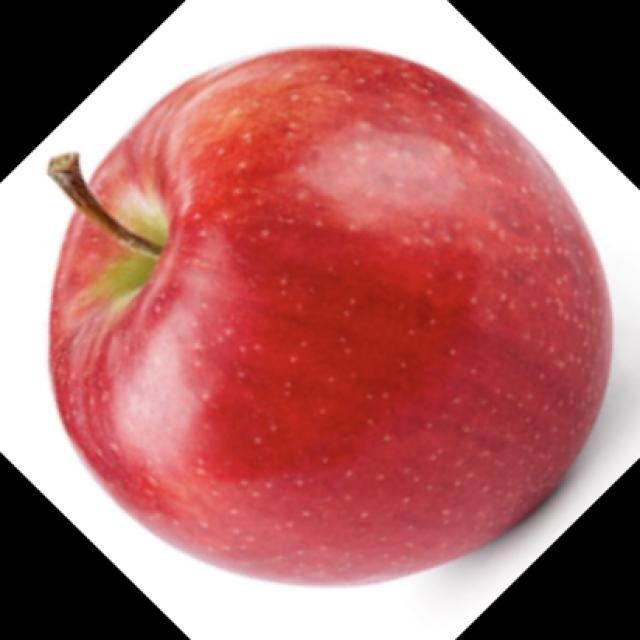Fresh Apple: (58, 79, 615, 568)
